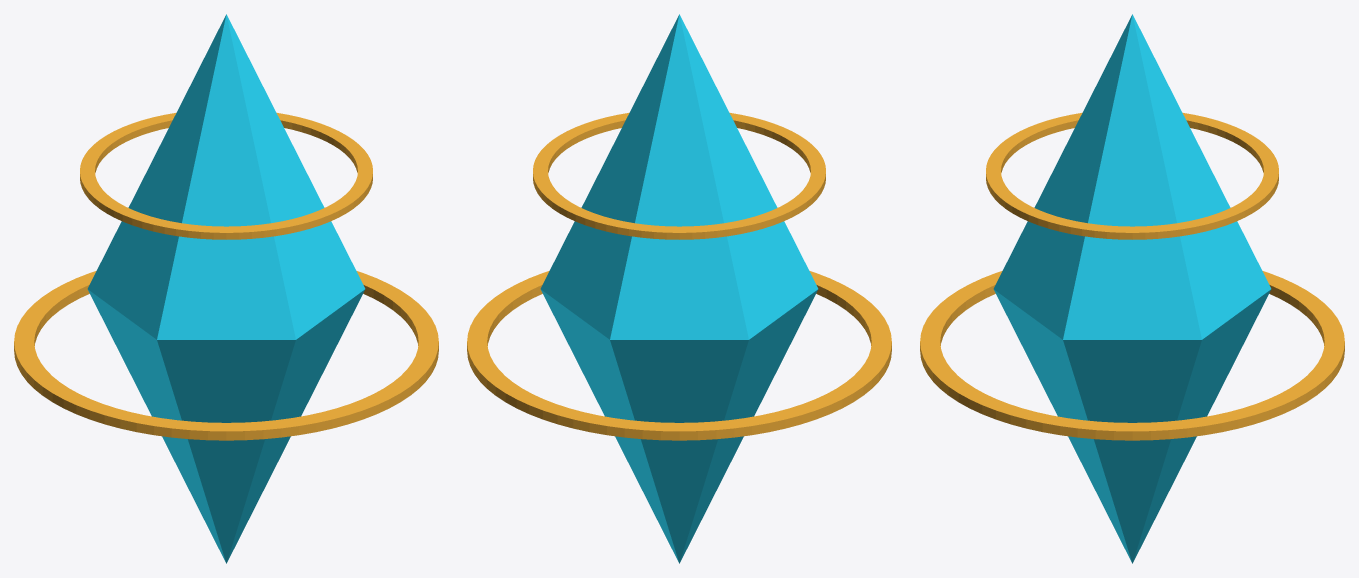
File: vmt_phase_a_memory_crystal_active.obj
3 views of the same model, side by side, from view 1: azimuth 30°, elevation 25°; view 2: azimuth 150°, elevation 25°; view 3: azimuth 270°, elevation 25° (orthographic).
Parts seen in each view (by area): view 1: VMT_PhaseA_MemoryCrystal_Active; view 2: VMT_PhaseA_MemoryCrystal_Active; view 3: VMT_PhaseA_MemoryCrystal_Active.
Boxes of the visible parts, x1=… form: VMT_PhaseA_MemoryCrystal_Active: x1=14, y1=14, x2=438, y2=563; VMT_PhaseA_MemoryCrystal_Active: x1=467, y1=14, x2=891, y2=563; VMT_PhaseA_MemoryCrystal_Active: x1=920, y1=14, x2=1344, y2=563.
Bounding box in the file's own units: 1.68 × 2.4 × 1.68.
